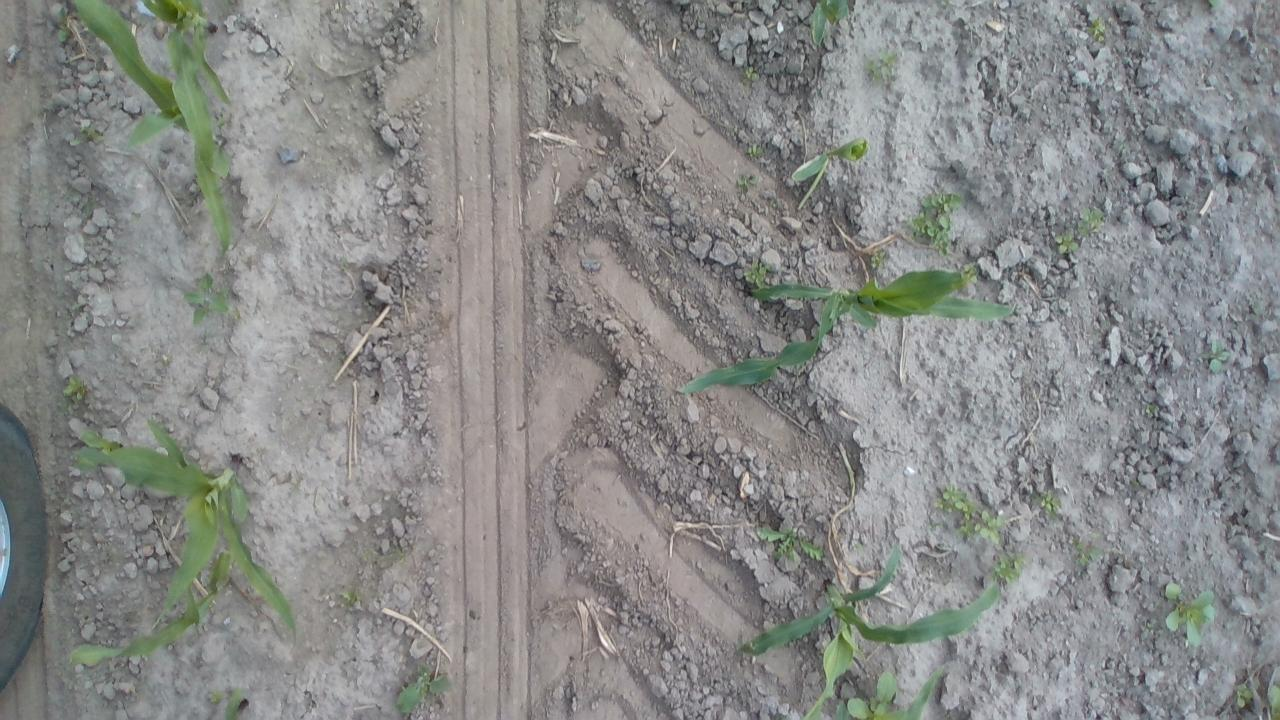Maize: (65, 419, 301, 668), (735, 539, 1002, 720), (674, 267, 1014, 395), (74, 0, 230, 256), (142, 1, 235, 173), (790, 137, 870, 183), (909, 662, 946, 720), (812, 0, 850, 46), (223, 685, 250, 720)
Weeds: (933, 482, 1006, 546), (908, 187, 964, 258), (1164, 582, 1216, 646), (395, 660, 450, 720), (184, 272, 233, 328), (755, 524, 823, 562), (848, 671, 896, 720), (867, 48, 903, 86), (990, 550, 1026, 584), (1202, 336, 1230, 374), (1030, 487, 1062, 520), (1078, 207, 1106, 240), (80, 428, 120, 451), (744, 260, 772, 289), (52, 4, 72, 43), (61, 374, 88, 402), (340, 588, 366, 613), (1054, 231, 1080, 255), (1086, 17, 1108, 44), (1234, 682, 1254, 710), (736, 172, 760, 195), (383, 545, 406, 566), (1074, 550, 1100, 568), (78, 126, 106, 142), (962, 262, 979, 286), (741, 65, 760, 86), (1269, 684, 1280, 720), (869, 250, 886, 272), (218, 0, 240, 16), (746, 144, 764, 160), (925, 519, 941, 534), (232, 306, 244, 322), (209, 690, 222, 704), (1074, 534, 1084, 552), (363, 550, 375, 562), (854, 542, 866, 553), (768, 196, 778, 209), (1088, 532, 1100, 540), (1146, 404, 1154, 413), (342, 257, 349, 267)
